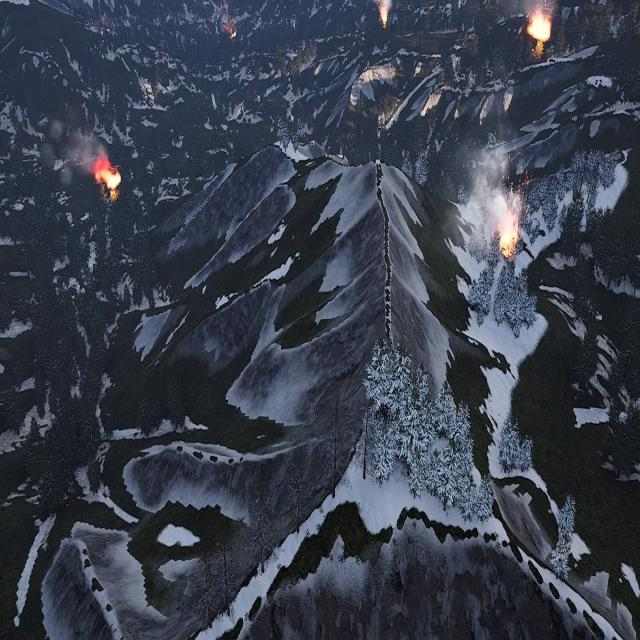fire: (94, 160, 120, 193), (497, 217, 518, 254), (527, 12, 551, 41), (224, 22, 236, 39), (380, 4, 389, 25)
smoke: (449, 124, 522, 238), (42, 118, 105, 187), (506, 0, 558, 17)
